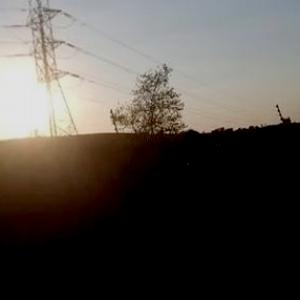follow: (156, 121, 234, 299)
